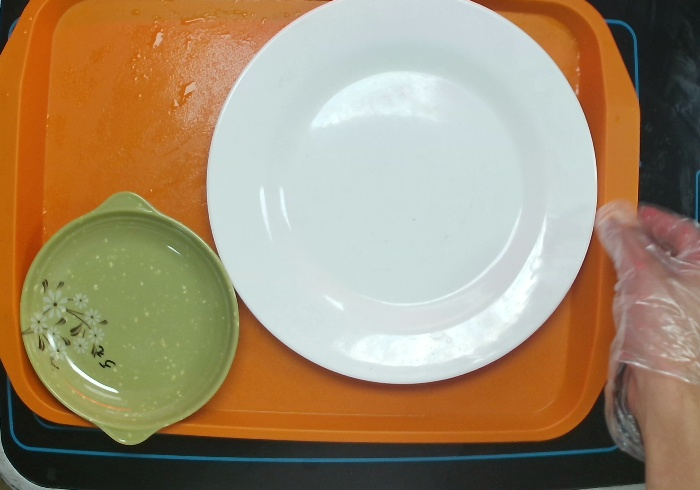NLDX-Da_Yuan_Pan: (206, 2, 598, 385)
NLDX-Lv_Hua_Shuang_Er_Die: (18, 189, 238, 448)
